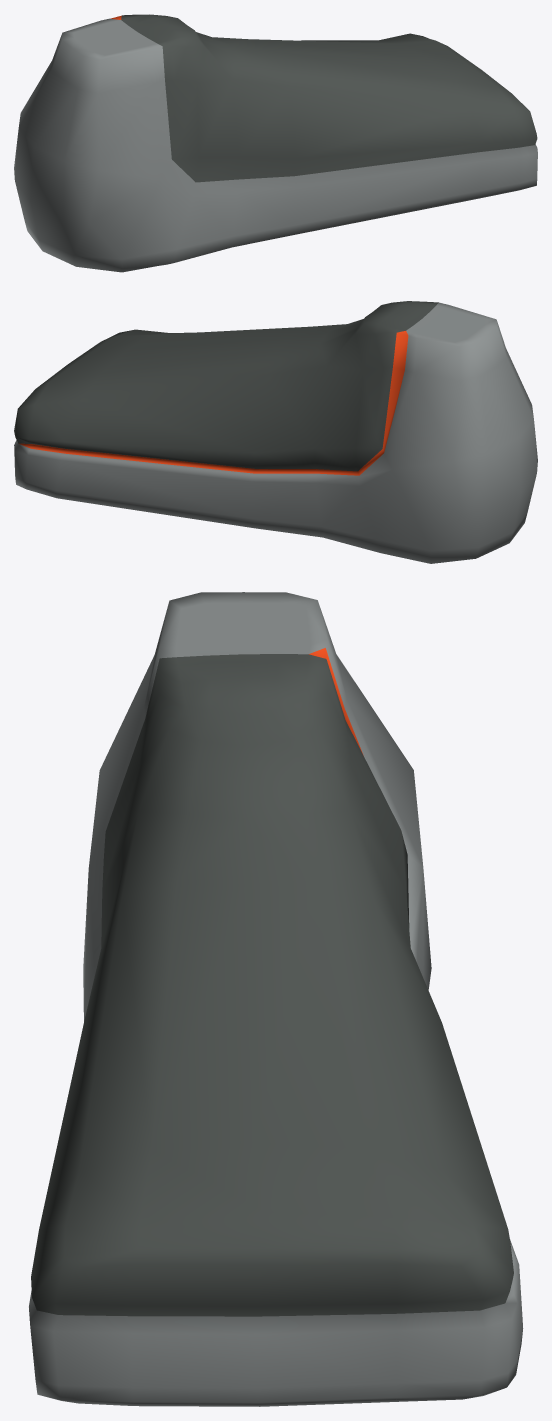
Rendered from xsens_LeftFoot.dae.
3 renders of one model, top to bottom at view 1: azimuth 30°, elevation 25°; view 2: azimuth 150°, elevation 25°; view 3: azimuth 270°, elevation 25°, orthographic. The views are drawn at different scales.
Visible parts, largest first — view 1: LeftFoot; view 2: LeftFoot; view 3: LeftFoot.
Boxes of the visible parts, x1=… form: LeftFoot: x1=14, y1=14, x2=537, y2=272; LeftFoot: x1=14, y1=301, x2=537, y2=563; LeftFoot: x1=29, y1=592, x2=523, y2=1406.
Size of the model in its own units: 0.1895 by 0.0884 by 0.0822.
